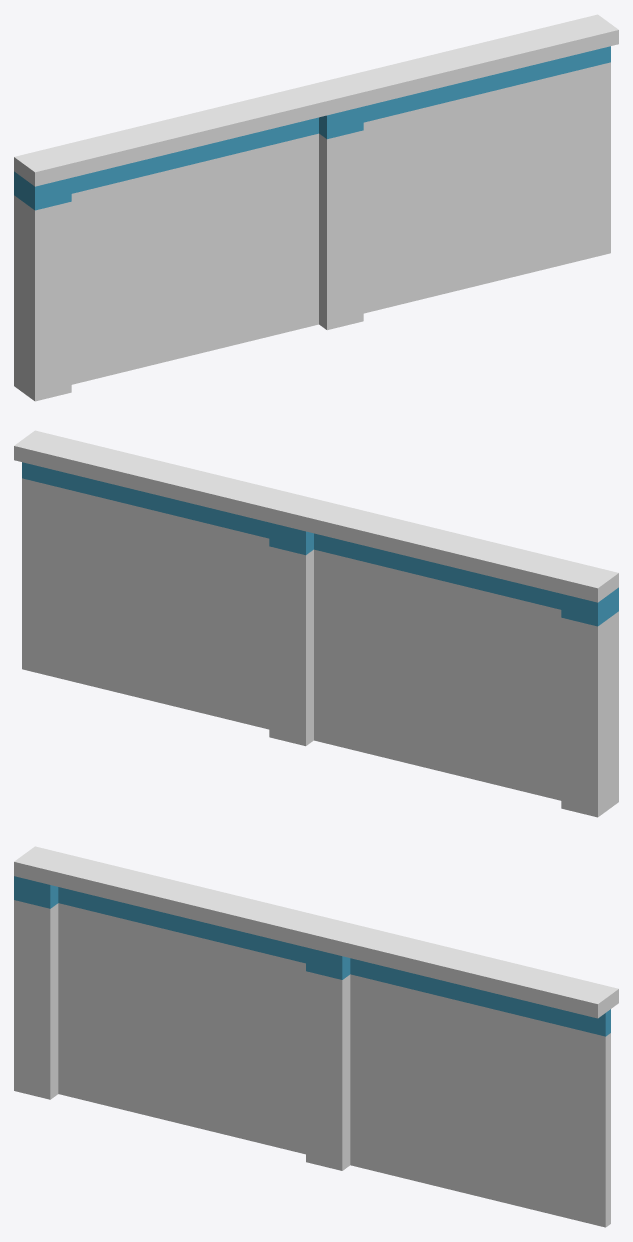
File: inside_classroom.obj
3 renders of one model, top to bottom at view 1: azimuth 30°, elevation 25°; view 2: azimuth 150°, elevation 25°; view 3: azimuth 330°, elevation 25°, orthographic.
Bounding box in the file's own units: 12.8 × 4.8 × 0.8.
Materials: 1 (1 with a texture image).
